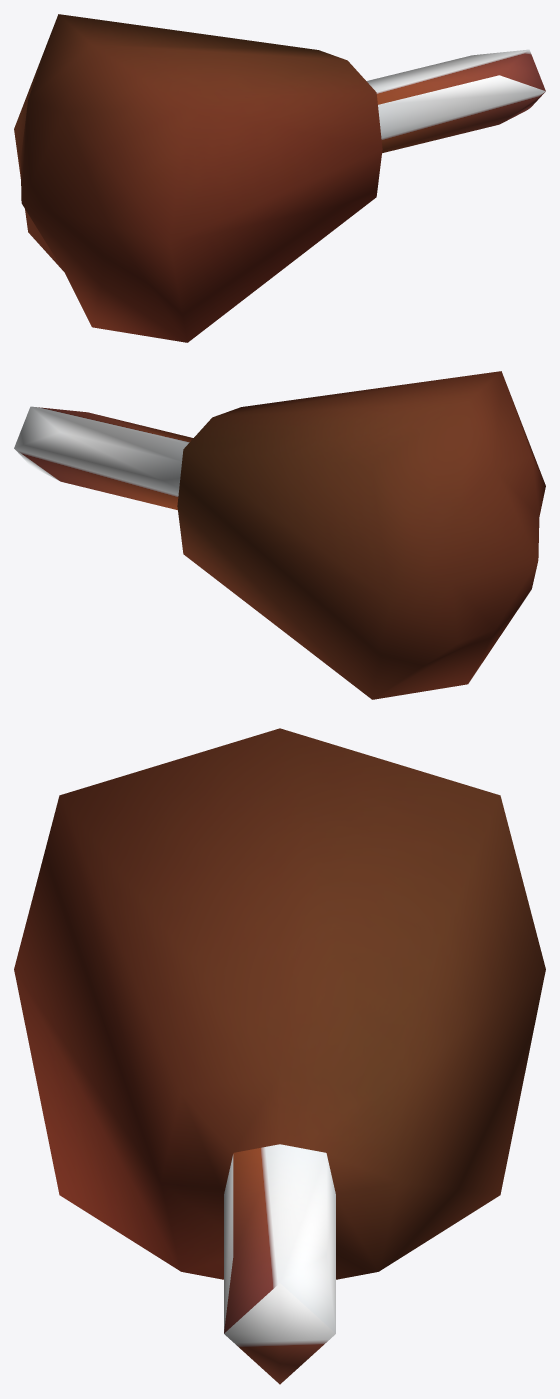
Rendered from ham.glb.
The picture shows the model from 3 angles, top to bottom: view 1: azimuth 30°, elevation 25°; view 2: azimuth 150°, elevation 25°; view 3: azimuth 270°, elevation 25°; orthographic projection. The views are drawn at different scales.
Parts seen in each view (by area): view 1: ham; view 2: ham; view 3: ham.
Boxes of the visible parts, bbox=[...] form: ham: bbox=[14, 14, 545, 342]; ham: bbox=[14, 371, 545, 699]; ham: bbox=[14, 728, 545, 1384].
Size of the model in its own units: 0.8784 by 0.4668 by 0.4668.
1 material, 1 textured.
